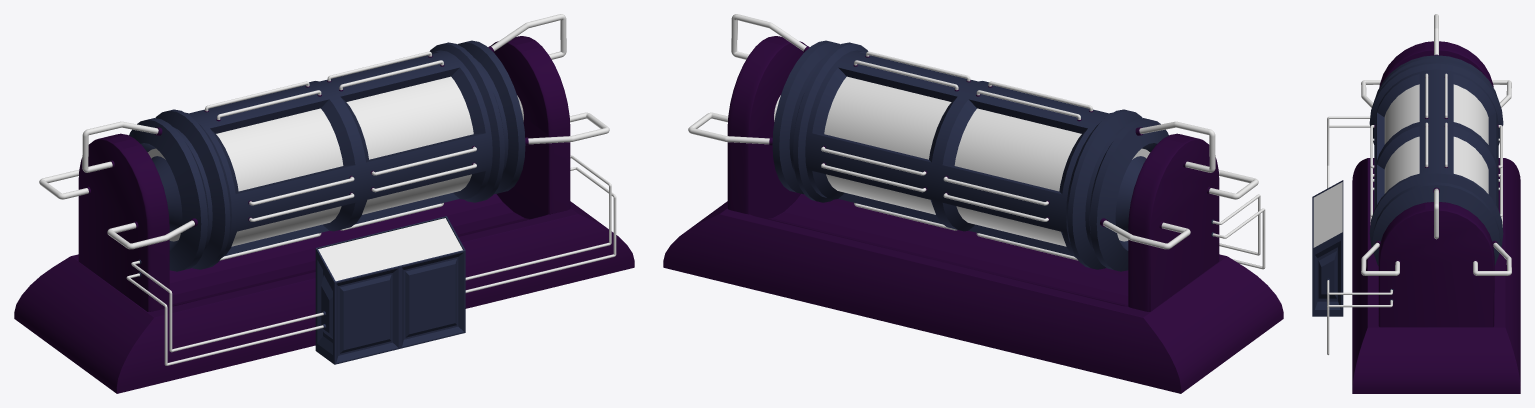
The model's file is reactor.fbx.
The picture shows the model from 3 angles, left to right: view 1: azimuth 30°, elevation 25°; view 2: azimuth 150°, elevation 25°; view 3: azimuth 270°, elevation 25°; orthographic projection. The views are drawn at different scales.
Parts seen in each view (by area): view 1: stand, reactor_body, controller, reactor_glass, reactor_pipes, outter_pipes, outter_cables; view 2: stand, reactor_body, reactor_glass, reactor_pipes, outter_pipes, outter_cables; view 3: stand, reactor_body, reactor_glass, controller, outter_pipes, reactor_pipes, outter_cables.
Part boxes in pixels (x1=…): stand: x1=14, y1=36, x2=634, y2=393; reactor_body: x1=129, y1=40, x2=525, y2=271; controller: x1=315, y1=216, x2=465, y2=364; reactor_glass: x1=216, y1=76, x2=473, y2=246; reactor_pipes: x1=204, y1=51, x2=476, y2=260; outter_pipes: x1=39, y1=14, x2=609, y2=249; outter_cables: x1=126, y1=155, x2=616, y2=365; stand: x1=663, y1=36, x2=1283, y2=393; reactor_body: x1=772, y1=40, x2=1168, y2=271; reactor_glass: x1=824, y1=76, x2=1081, y2=246; reactor_pipes: x1=821, y1=51, x2=1093, y2=260; outter_pipes: x1=688, y1=14, x2=1258, y2=249; outter_cables: x1=1211, y1=194, x2=1265, y2=269; stand: x1=1352, y1=41, x2=1520, y2=393; reactor_body: x1=1369, y1=55, x2=1503, y2=265; reactor_glass: x1=1384, y1=84, x2=1488, y2=193; controller: x1=1312, y1=180, x2=1343, y2=316; outter_pipes: x1=1361, y1=14, x2=1511, y2=275; reactor_pipes: x1=1370, y1=73, x2=1502, y2=227; outter_cables: x1=1326, y1=116, x2=1393, y2=355.
Size of the model in its own units: 789 by 323 by 335.
